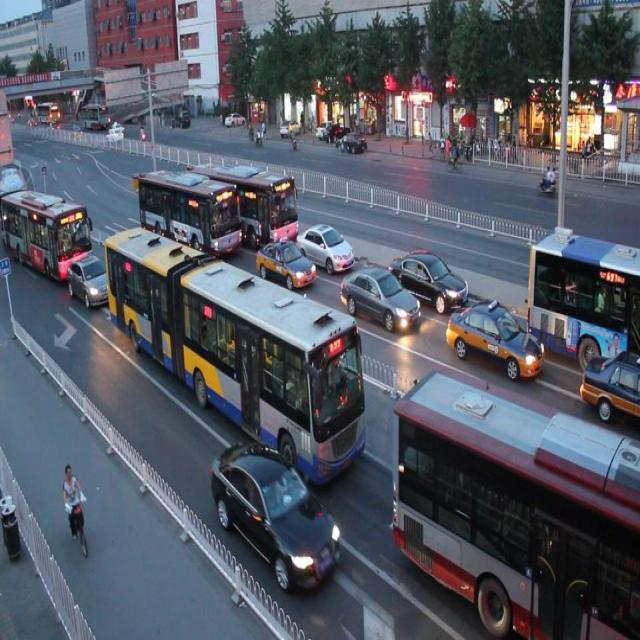car: (210, 435, 341, 588), (446, 294, 544, 382), (337, 258, 416, 331), (390, 243, 468, 309), (578, 346, 640, 416), (253, 230, 314, 289), (294, 214, 352, 273), (66, 251, 116, 307)
van: (102, 218, 366, 482), (395, 366, 640, 640), (526, 228, 640, 360), (136, 160, 240, 262), (191, 153, 298, 248), (1, 182, 90, 272)
